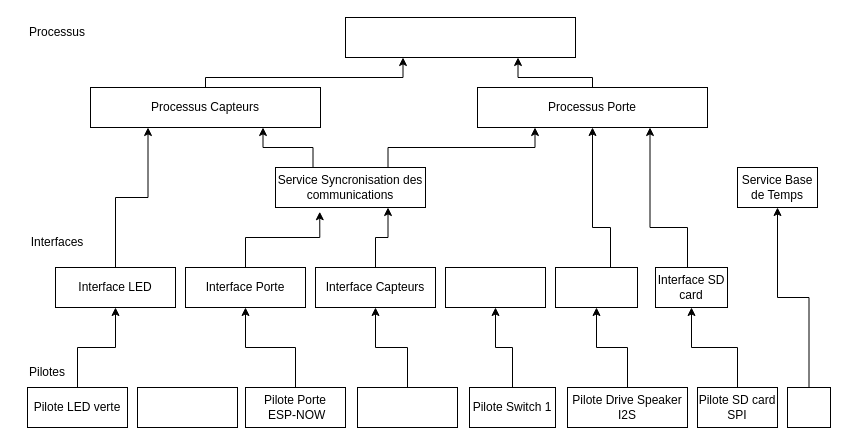
The diagram is 848 pixels wide and 445 high, and some of its shapes have lost their labels. Here are the shapes that lost their labels. From the top down, the centre of each, then its label:
At point 460,37: "Processus Panneau".
At point 495,287: "Interface Switch".
At point 596,287: "Interface Speaker".
At point 187,407: "Pilote LED Bleu".
At point 407,407: "Pilote Capteurs ESP-NOW".
At point 808,407: "Pilote Timer".
